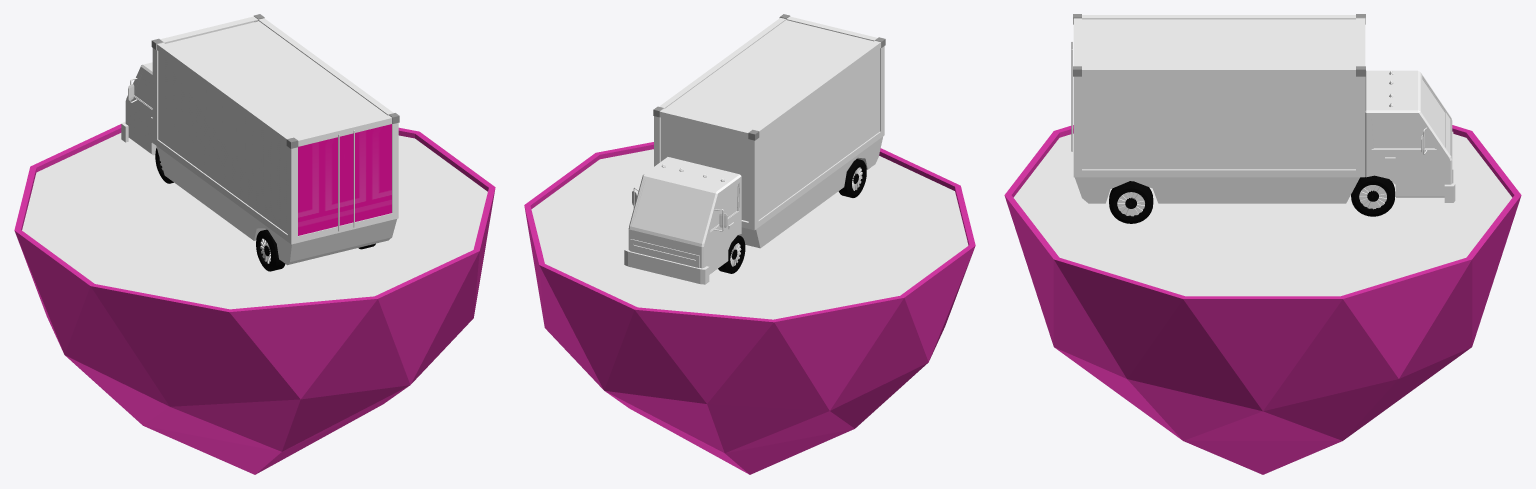
The model's file is asset.glb.
The picture shows the model from 3 angles, left to right: view 1: azimuth 30°, elevation 25°; view 2: azimuth 150°, elevation 25°; view 3: azimuth 270°, elevation 25°; orthographic projection. The views are drawn at different scales.
Visible parts, largest first — view 1: Icosphere, Cube.001, Cube, Cube.005, Cube.003, Cube.002, Cube.006, Cylinder.002; view 2: Icosphere, Cube.001, Cube.006, Cube, Cube.005, Cylinder.002, Cylinder.003; view 3: Icosphere, Cube.001, Cube.006, Cube, Cube.005, Cylinder.001, Cylinder.
Boxes of the visible parts, bbox=[...] form: Icosphere: bbox=[14, 124, 495, 474]; Cube.001: bbox=[158, 21, 386, 233]; Cube: bbox=[151, 14, 399, 244]; Cube.005: bbox=[156, 146, 396, 265]; Cube.003: bbox=[344, 124, 391, 224]; Cube.002: bbox=[298, 135, 344, 235]; Cube.006: bbox=[121, 62, 156, 155]; Cylinder.002: bbox=[256, 229, 285, 271]; Icosphere: bbox=[524, 142, 975, 474]; Cube.001: bbox=[665, 20, 879, 219]; Cube.006: bbox=[624, 157, 741, 284]; Cube: bbox=[653, 14, 885, 230]; Cube.005: bbox=[738, 136, 883, 248]; Cylinder.002: bbox=[838, 159, 866, 197]; Cylinder.003: bbox=[718, 235, 745, 273]; Icosphere: bbox=[1004, 125, 1521, 474]; Cube.001: bbox=[1082, 19, 1355, 169]; Cube.006: bbox=[1365, 70, 1455, 202]; Cube: bbox=[1073, 14, 1365, 177]; Cube.005: bbox=[1074, 177, 1359, 203]; Cylinder.001: bbox=[1109, 181, 1153, 223]; Cylinder: bbox=[1351, 175, 1395, 216].
Bounding box in the file's own units: 7.56 × 7.35 × 7.95.
Materials: 15 (1 with a texture image).
